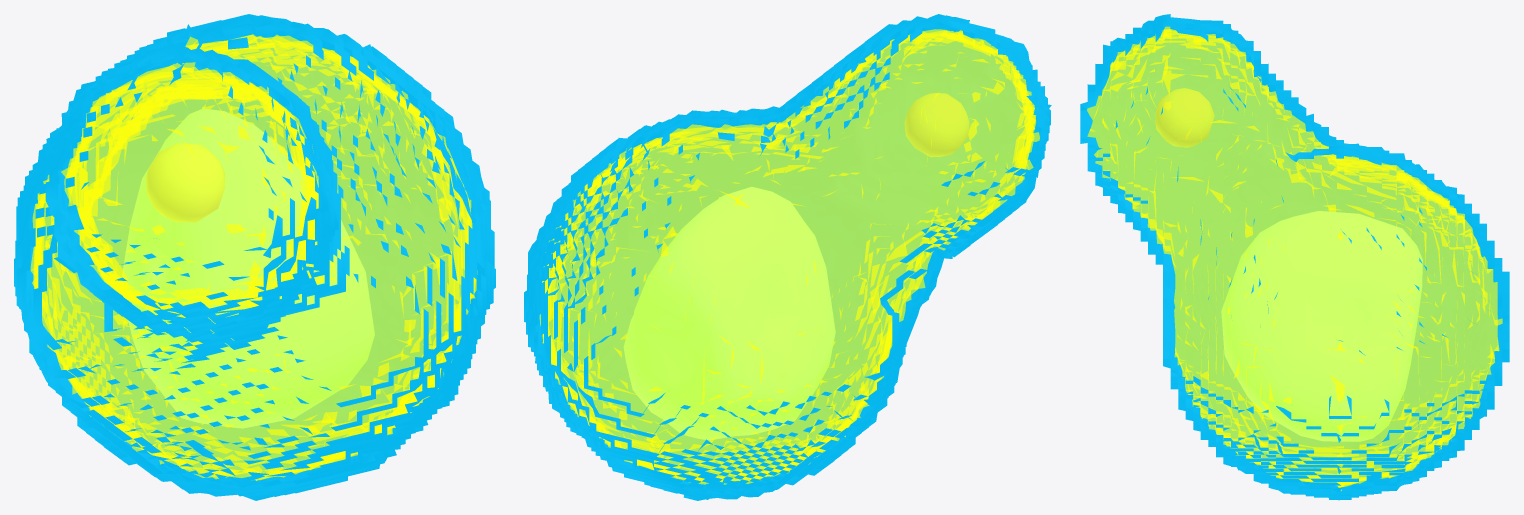
The model's file is density.glb.
The picture shows the model from 3 angles, left to right: view 1: azimuth 30°, elevation 25°; view 2: azimuth 150°, elevation 25°; view 3: azimuth 270°, elevation 25°; orthographic projection. The views are drawn at different scales.
Visible parts, largest first — view 1: density.001; view 2: density.001; view 3: density.001.
Part boxes in pixels (x1,y1,x2,y2): density.001: [14, 14, 495, 500]; density.001: [524, 14, 1051, 500]; density.001: [1080, 14, 1509, 500].
Bounding box in the file's own units: 1.77 × 1.77 × 1.77.
